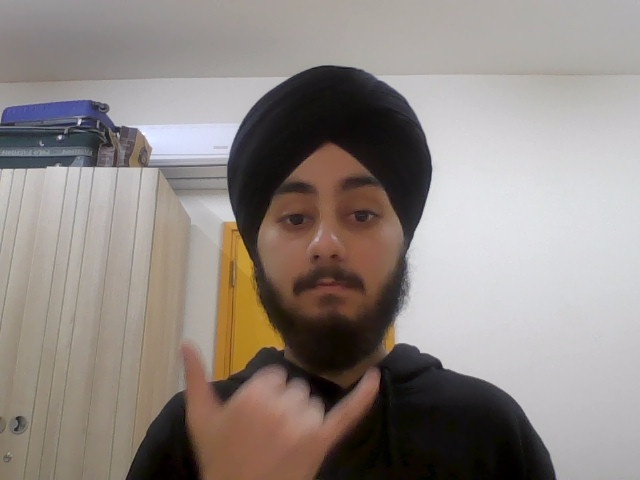Wrong: (175, 336, 390, 480)
